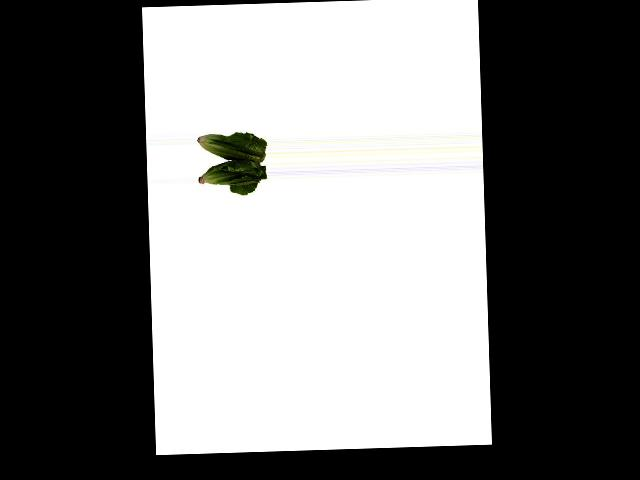lettuce: (196, 128, 268, 189)
